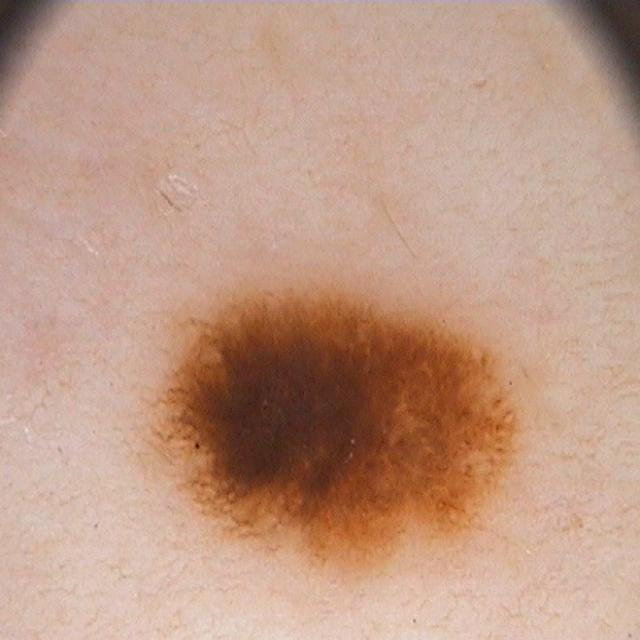Melanoma: (117, 231, 565, 577)
